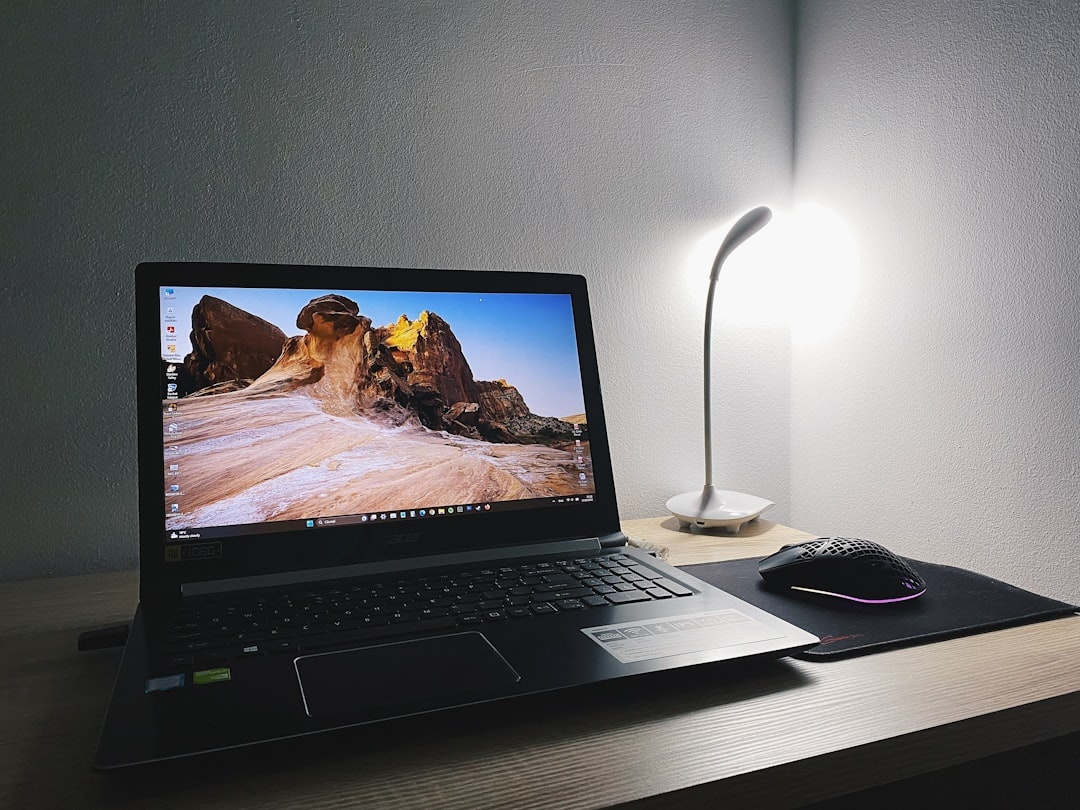laptop: (58, 223, 827, 786)
